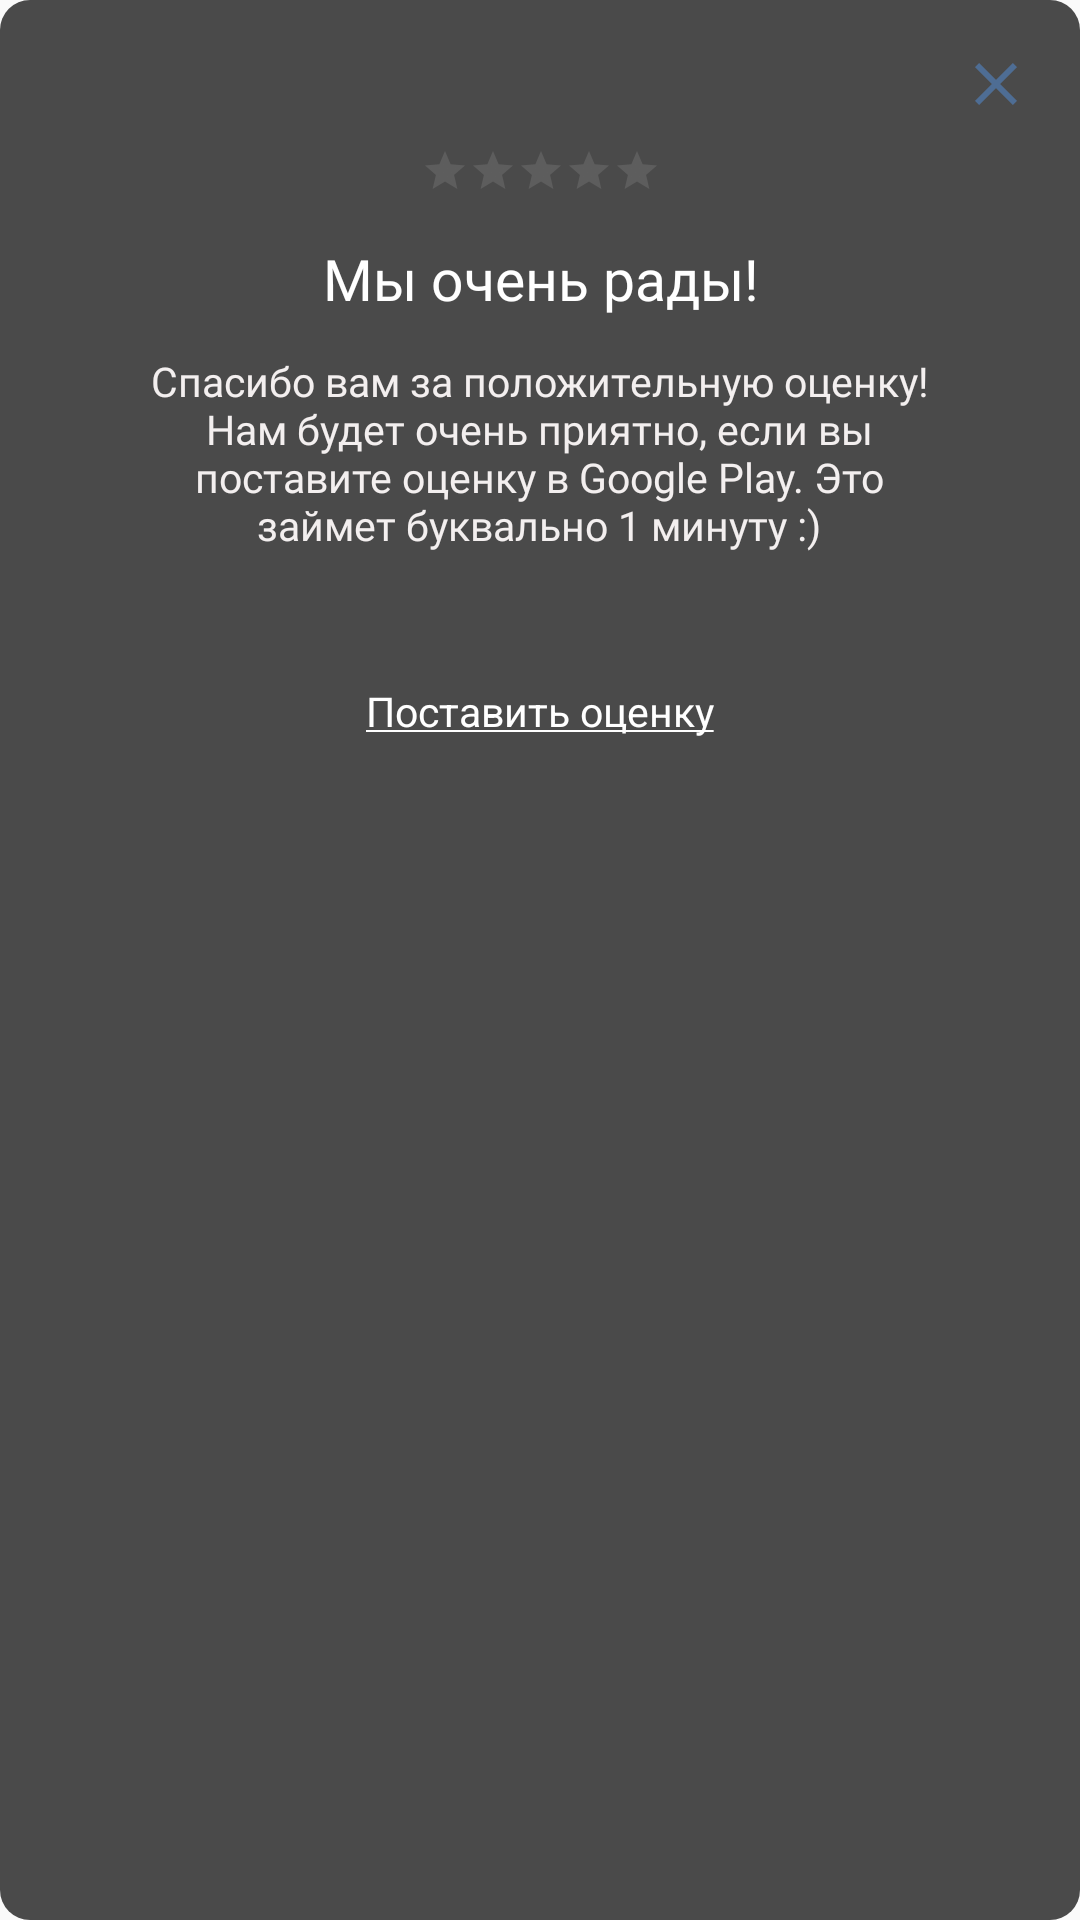

Screen size 1080px x 1920px. Icon name, then its center in pixels as (x,y):
close: (996,84)
